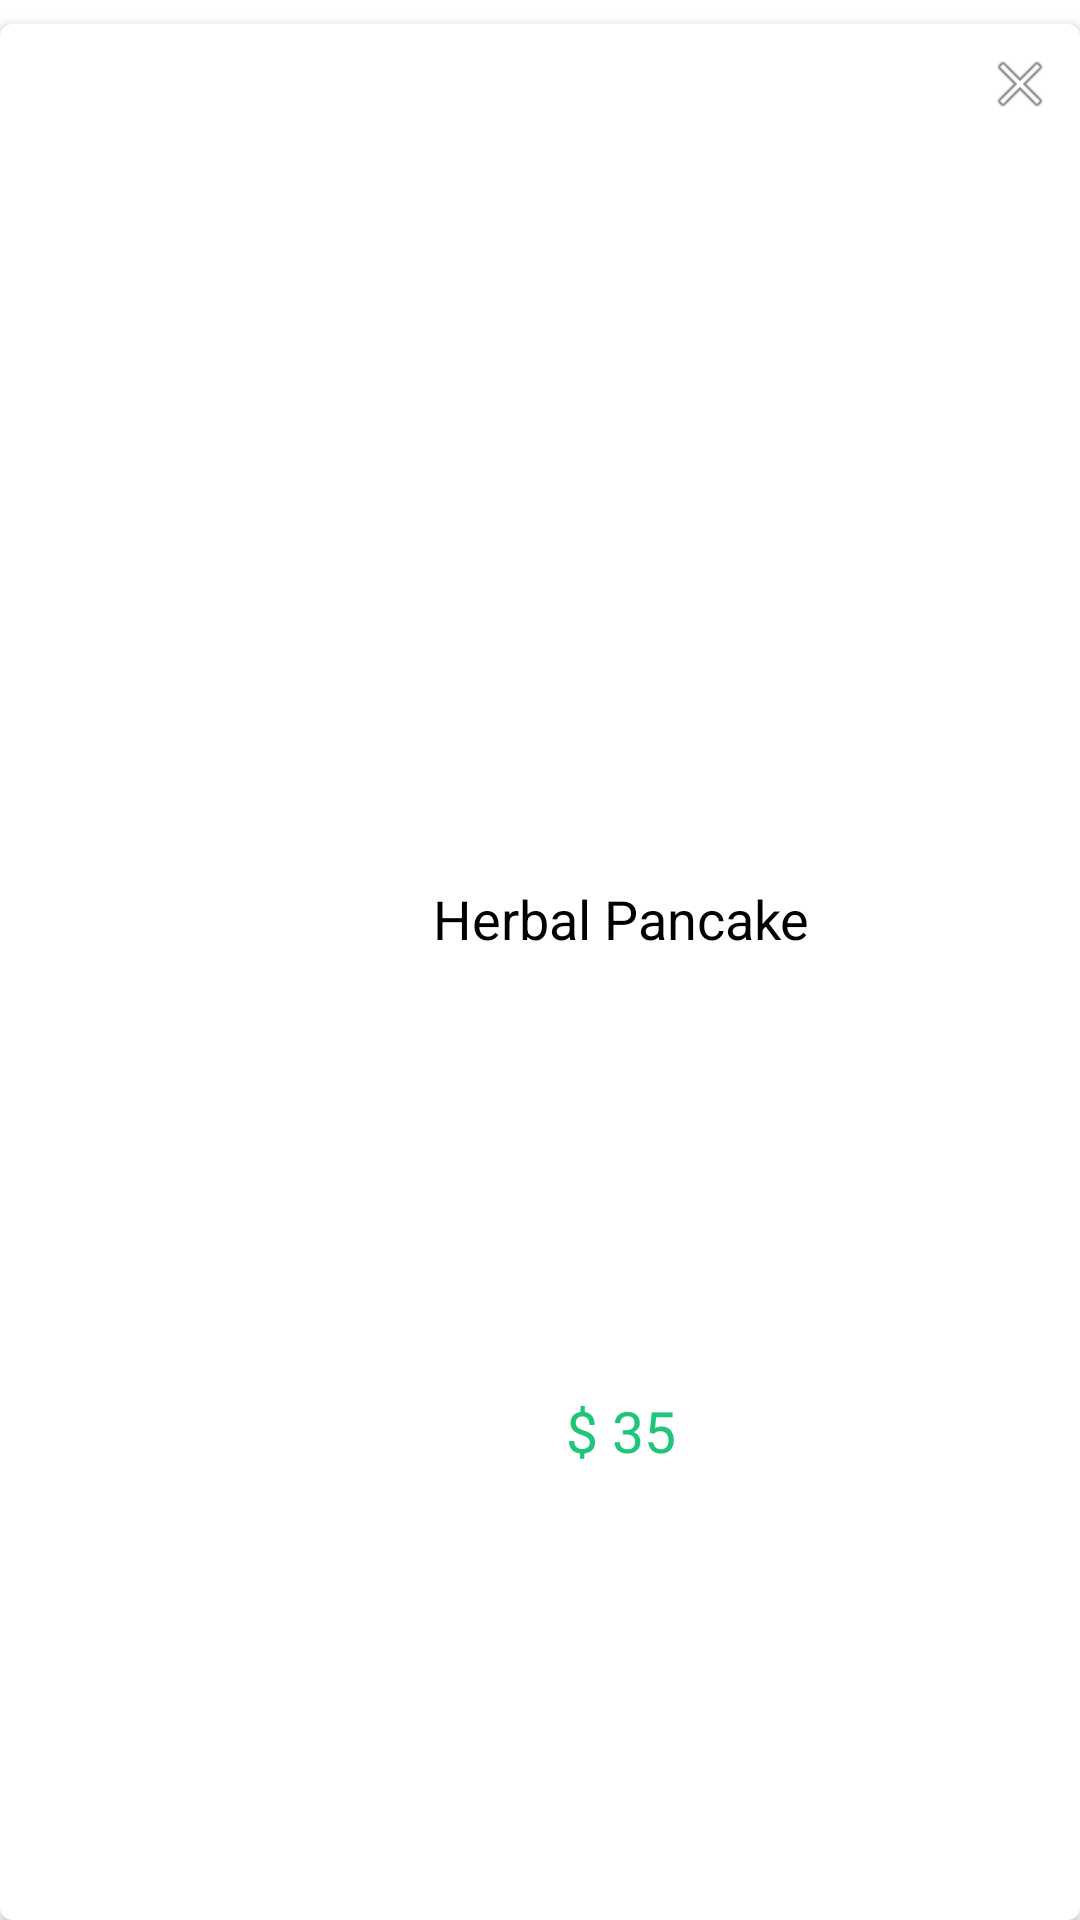

Where icons sit on this 1080px×1920px app screen, as region(x1, y1, x2, y2):
close clear cancel: region(997, 61, 1043, 107)
